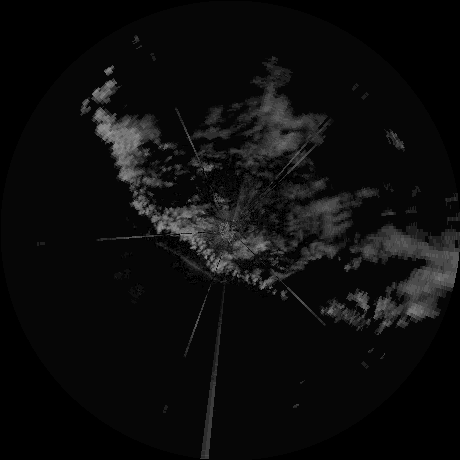frontgust: (158, 239, 221, 283)
